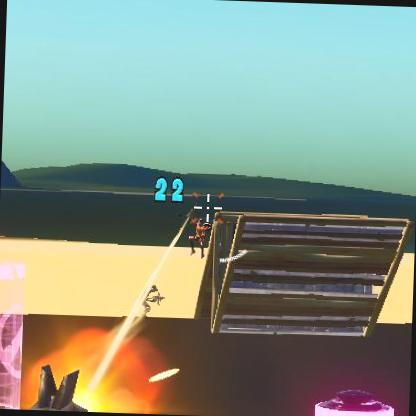person: (142, 286, 168, 317), (186, 216, 204, 258), (192, 219, 206, 257), (154, 178, 166, 202)
